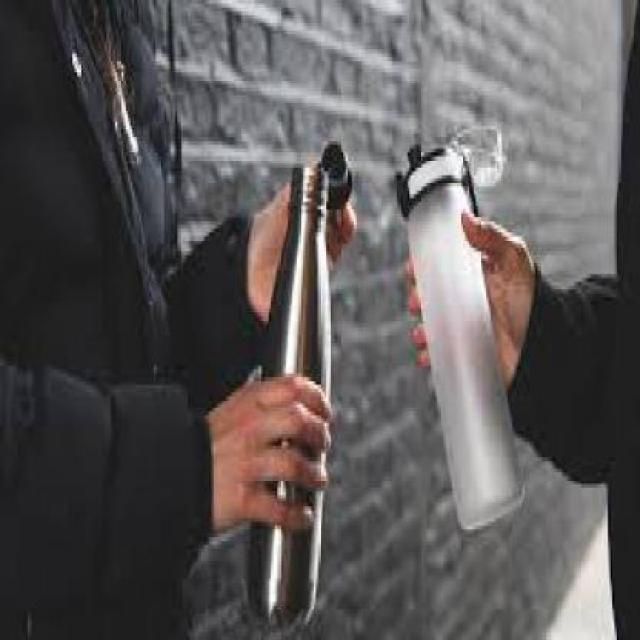Drinking: (390, 91, 525, 526), (247, 152, 345, 614)
